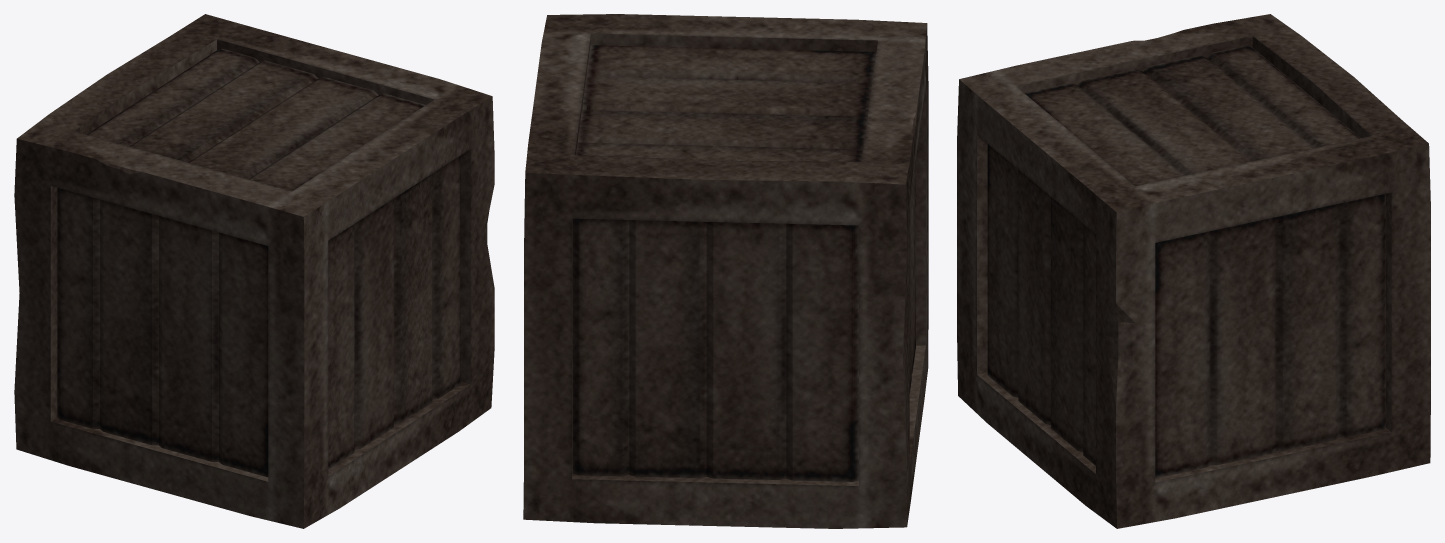
The picture shows the model from 3 angles, left to right: view 1: azimuth 30°, elevation 25°; view 2: azimuth 150°, elevation 25°; view 3: azimuth 270°, elevation 25°; orthographic projection. The views are drawn at different scales.
Visible parts, largest first — view 1: wooden_crate_2; view 2: wooden_crate_2; view 3: wooden_crate_2.
Boxes of the visible parts, x1,y1,x2,y2 form: wooden_crate_2: (14, 14, 494, 528); wooden_crate_2: (523, 14, 928, 528); wooden_crate_2: (957, 14, 1430, 528).
Bounding box in the file's own units: 1.45 × 1.08 × 1.45.
1 material, 1 textured.
